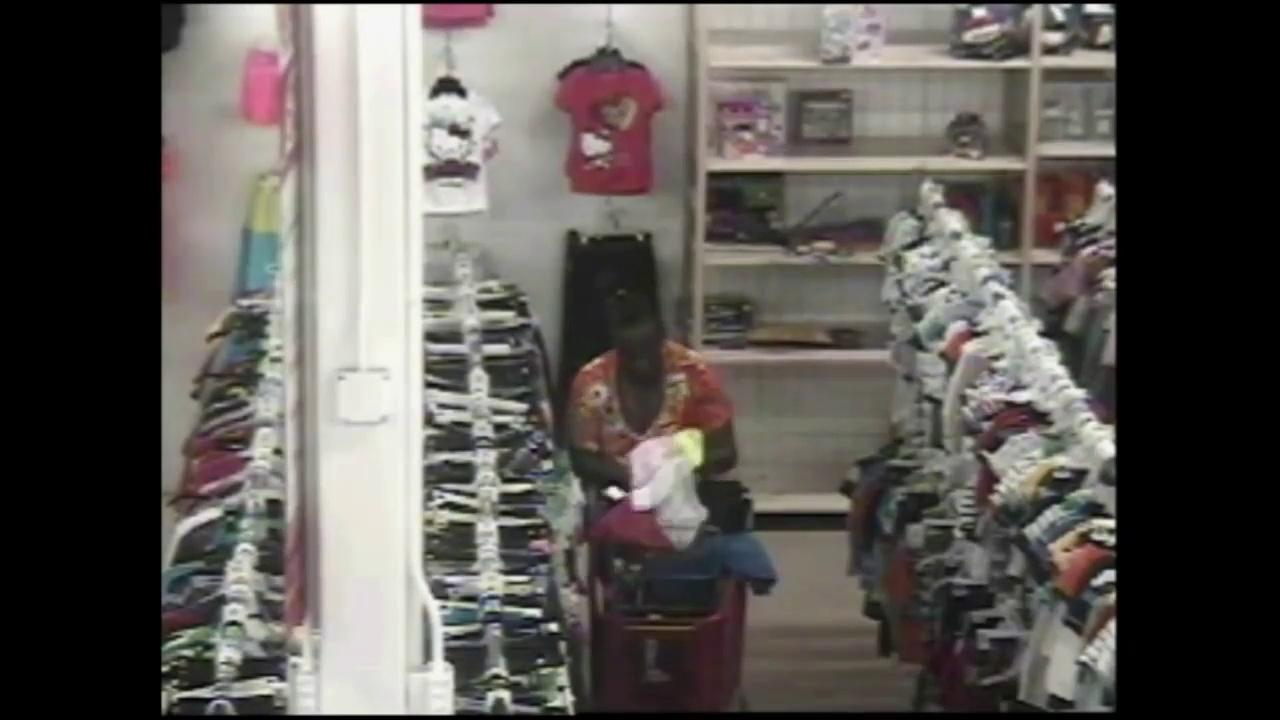1: (619, 423, 708, 511)
2: (518, 240, 814, 651)
persone: (709, 453, 745, 531)
